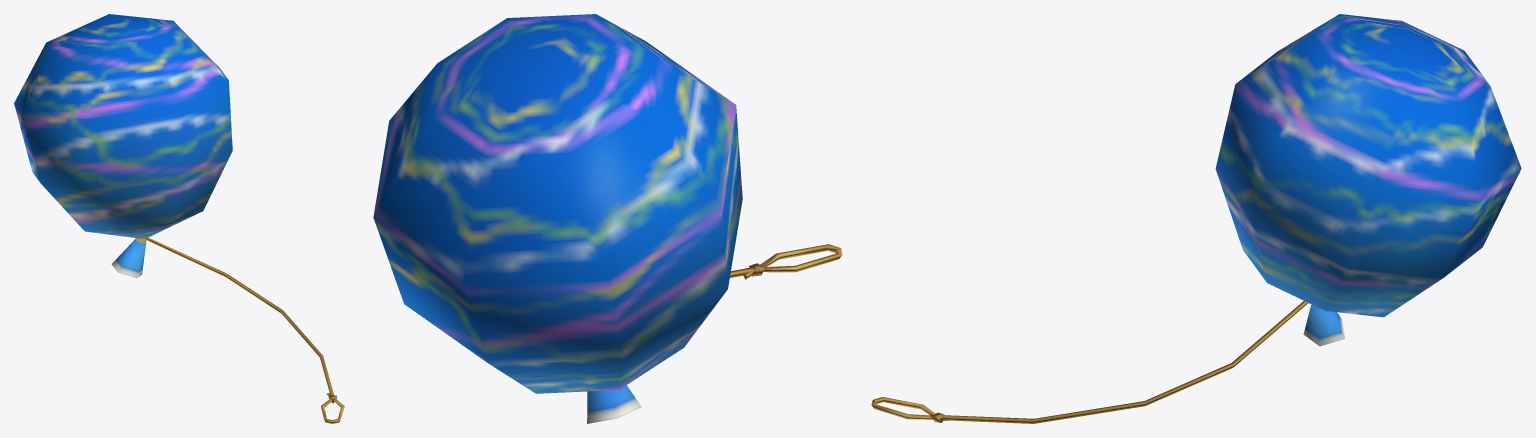
File: jsf_WaterBalloon_12_e.fbx
The picture shows the model from 3 angles, left to right: view 1: azimuth 30°, elevation 25°; view 2: azimuth 150°, elevation 25°; view 3: azimuth 270°, elevation 25°; orthographic projection. The views are drawn at different scales.
Parts seen in each view (by area): view 1: jsf_WaterBalloon_12_e; view 2: jsf_WaterBalloon_12_e; view 3: jsf_WaterBalloon_12_e.
Part boxes in pixels (<box>): jsf_WaterBalloon_12_e: <box>14,14,344,423</box>; jsf_WaterBalloon_12_e: <box>373,14,842,423</box>; jsf_WaterBalloon_12_e: <box>871,14,1521,423</box>.
Bounding box in the file's own units: 10.92 × 14.38 × 23.6.
